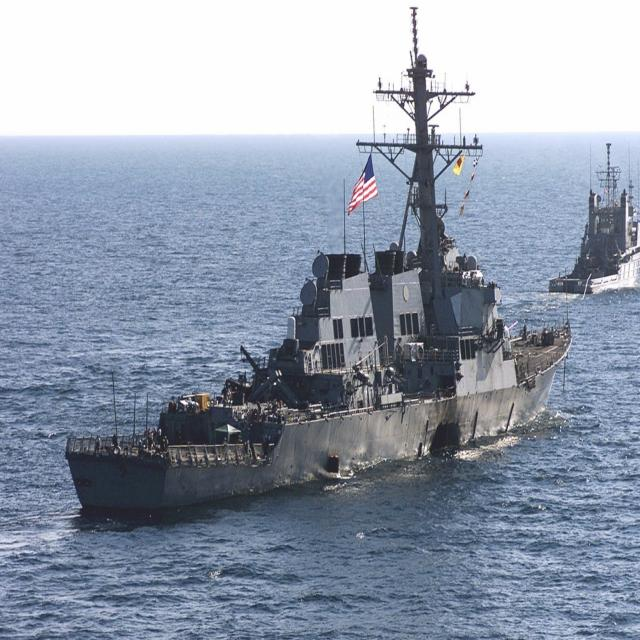navalvessels: (54, 0, 579, 513), (560, 137, 640, 298)
